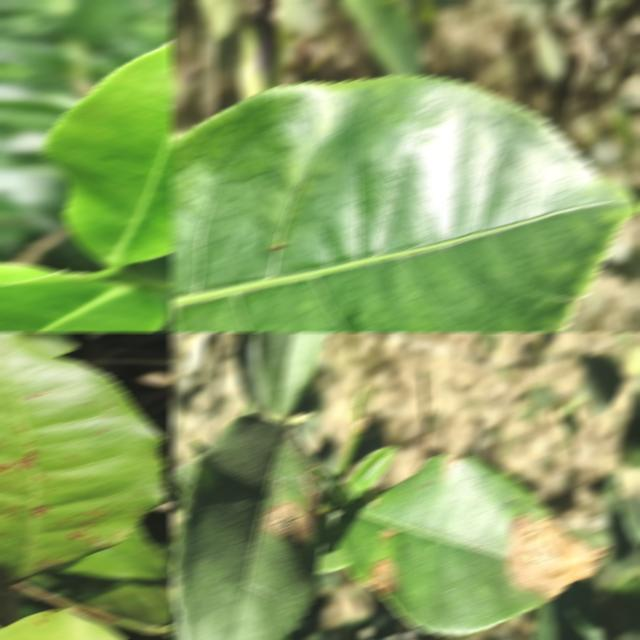Leaf: (170, 75, 637, 332), (333, 455, 607, 634), (0, 332, 164, 577), (172, 415, 325, 640), (44, 41, 174, 266), (0, 279, 168, 332), (254, 332, 332, 420), (338, 0, 424, 74), (61, 527, 174, 578), (531, 580, 604, 640), (345, 447, 396, 499), (619, 371, 640, 465), (0, 263, 67, 284)
